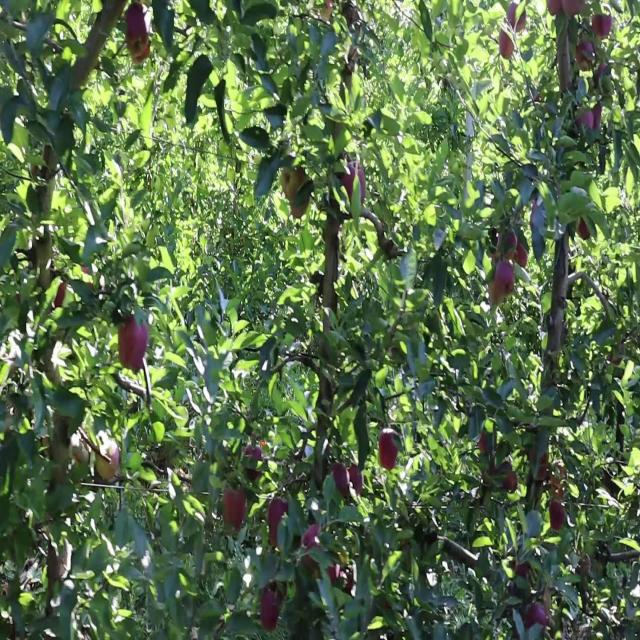apple: (124, 0, 151, 53), (120, 312, 149, 361), (260, 583, 284, 633), (280, 163, 311, 201), (120, 334, 148, 375), (268, 497, 289, 549), (340, 163, 367, 203), (124, 28, 152, 66), (488, 270, 516, 306), (244, 440, 266, 484), (224, 490, 248, 530), (96, 447, 121, 484), (300, 526, 321, 567), (380, 433, 400, 473), (592, 7, 613, 43), (576, 106, 603, 133), (508, 234, 528, 270), (48, 547, 65, 587), (120, 348, 144, 375), (528, 604, 551, 631), (580, 106, 603, 133), (576, 42, 596, 71), (348, 462, 364, 498), (128, 42, 152, 66), (500, 462, 519, 491), (332, 462, 348, 496), (508, 7, 528, 34), (548, 504, 566, 533), (532, 455, 549, 484), (288, 199, 311, 220), (552, 462, 568, 491), (500, 35, 516, 62), (564, 0, 585, 20), (536, 455, 550, 484), (512, 561, 532, 580), (504, 469, 519, 491), (56, 284, 68, 311), (548, 0, 564, 20), (328, 561, 340, 585), (592, 106, 603, 132), (476, 433, 488, 455), (596, 63, 608, 84), (580, 220, 591, 242), (324, 0, 335, 21)
